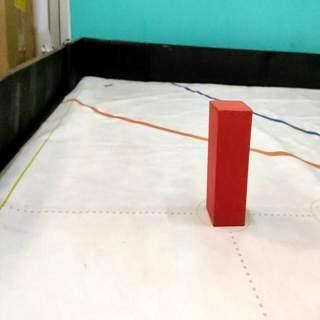redbox: (206, 98, 252, 227)
